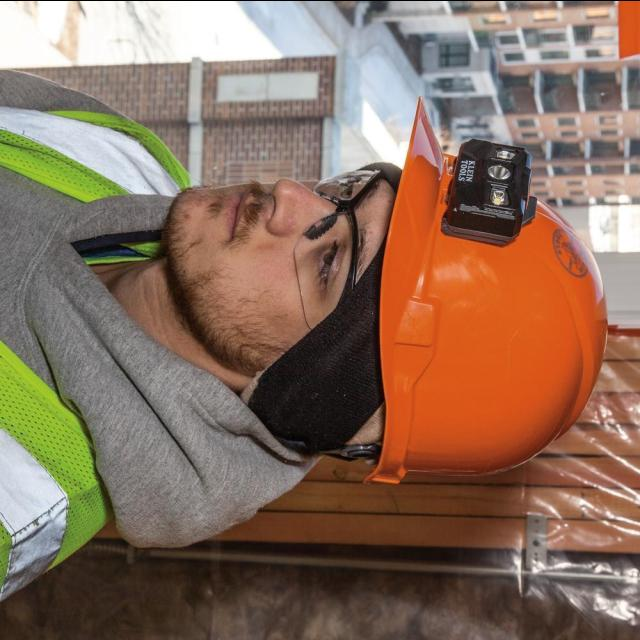helmet: (363, 79, 604, 505)
